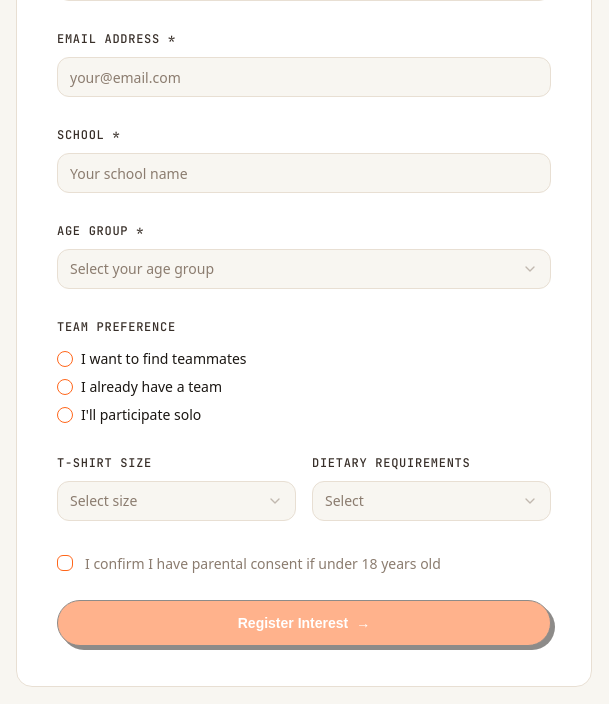
Hackathon RegistrationForm › disables the submit button until the parental consent checkbox is ticked
(page scrolled)
Expected: the button "Register Interest →" is disabled, [57,600,551,646]
Click the checkbox named "parental consent". click: (65,563)
box: [57,555,73,571]
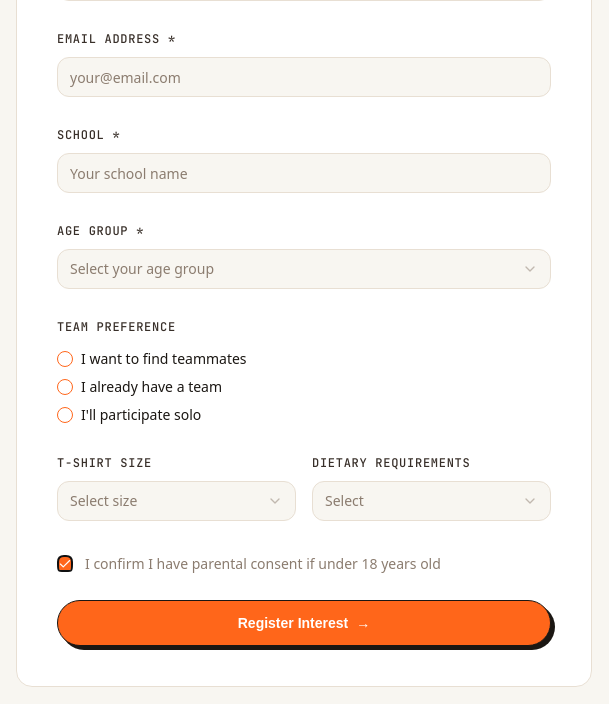
Result: the button "Register Interest →" is enabled at [57,600,551,646]
